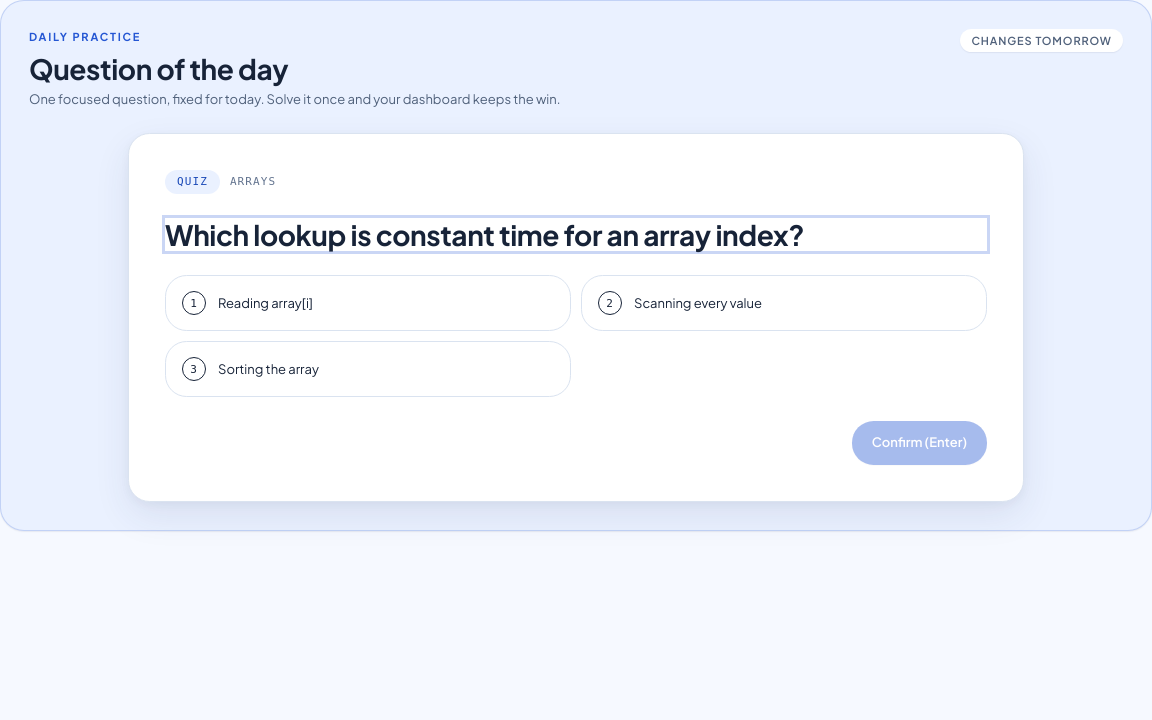
Scenario: DashboardQuestionOfDay › does not mark an incorrect answer as the daily completion
Step 1. Click the button "2 Scanning every value" → click(698, 303), box [581,276,987,332]
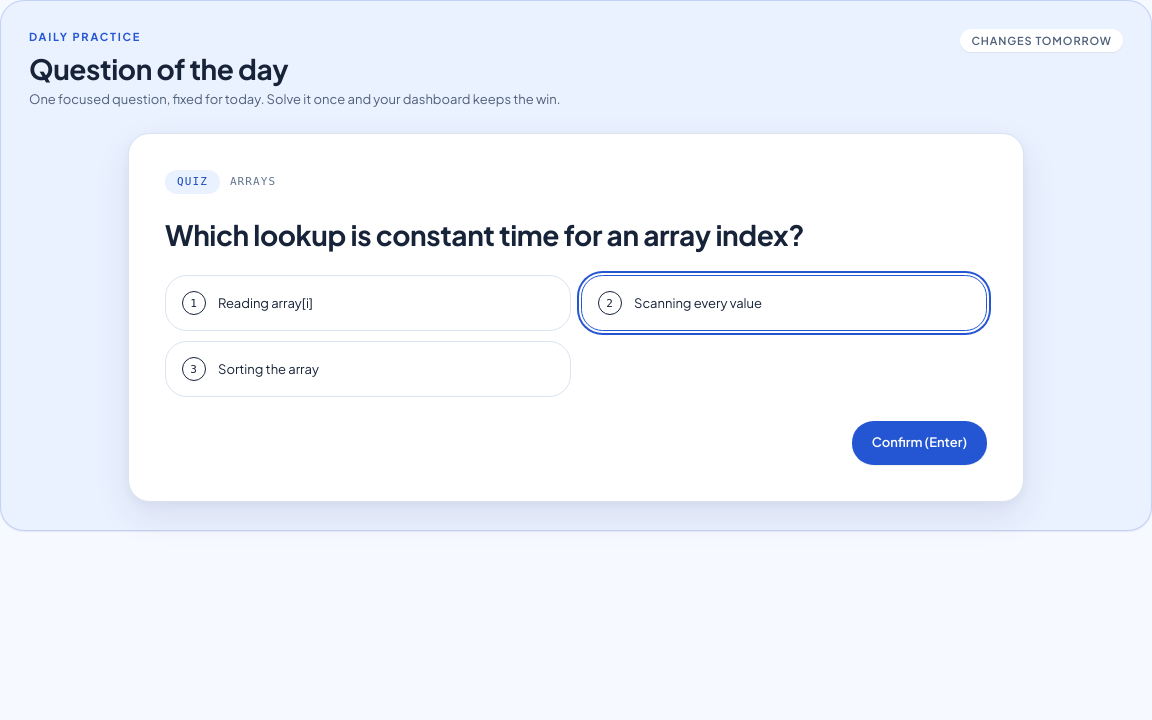
Step 2. Click the button "Confirm (Enter)" → click(919, 443), box [852,422,987,465]
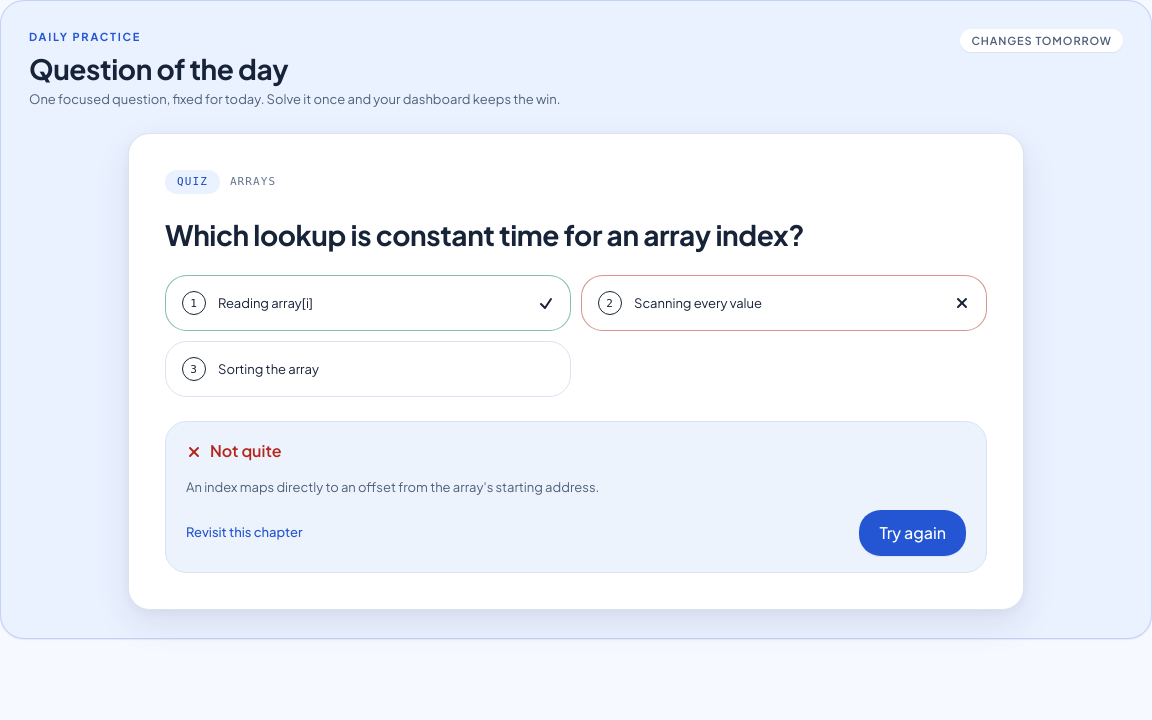
expect the text "Not quite" is shown: met, box [186,440,282,462]
expect the button "Try again" is shown: met, box [859,510,966,556]
